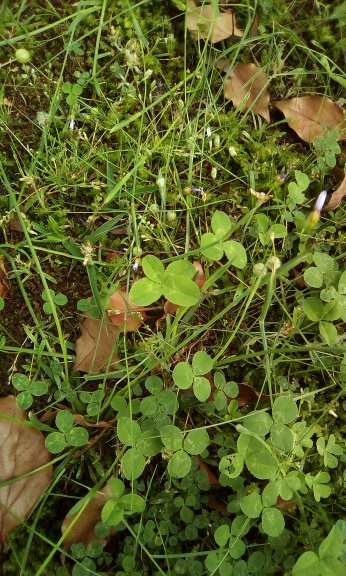4leaf: (128, 254, 200, 308)
